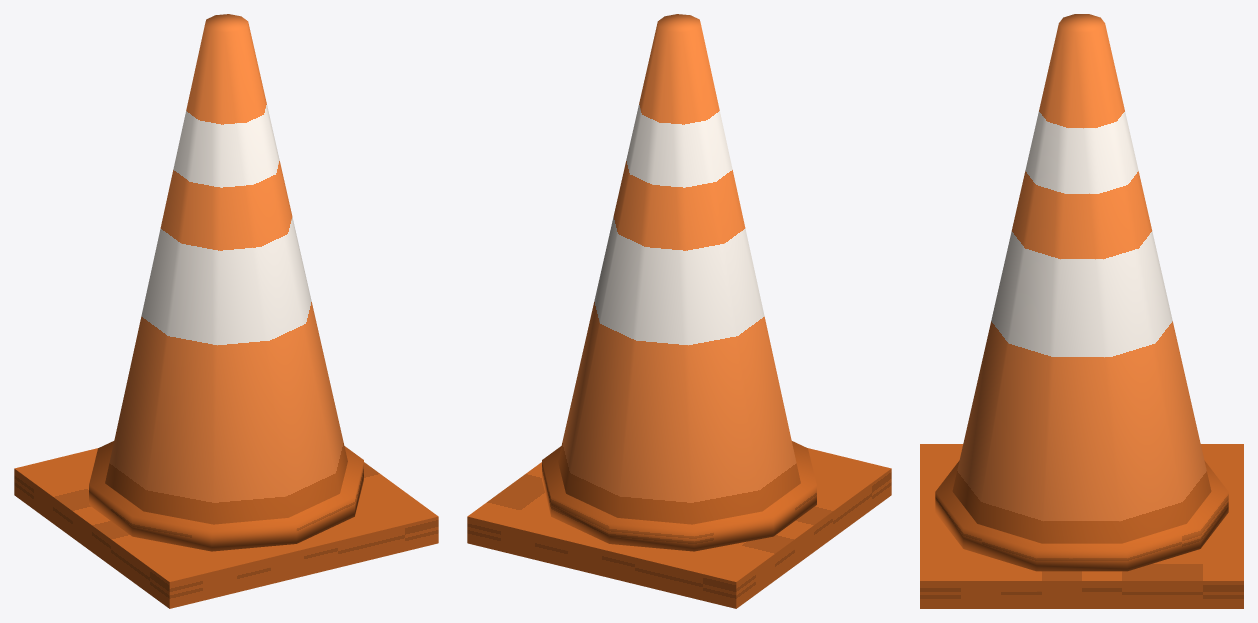
File: Traffic Cone.fbx
3 views of the same model, side by side, from view 1: azimuth 30°, elevation 25°; view 2: azimuth 150°, elevation 25°; view 3: azimuth 270°, elevation 25° (orthographic). The views are drawn at different scales.
Visible parts, largest first — view 1: Traffic Cone cone, Traffic Cone base, Traffic Cone lip; view 2: Traffic Cone cone, Traffic Cone base, Traffic Cone lip; view 3: Traffic Cone cone, Traffic Cone base, Traffic Cone lip.
Part boxes in pixels (bbox=[...]): Traffic Cone cone: bbox=[105, 14, 347, 524]; Traffic Cone base: bbox=[14, 448, 438, 608]; Traffic Cone lip: bbox=[89, 441, 363, 551]; Traffic Cone cone: bbox=[558, 14, 800, 524]; Traffic Cone base: bbox=[467, 448, 891, 608]; Traffic Cone lip: bbox=[542, 441, 816, 551]; Traffic Cone cone: bbox=[952, 14, 1211, 543]; Traffic Cone base: bbox=[920, 444, 1243, 608]; Traffic Cone lip: bbox=[935, 460, 1228, 571].
Bounding box in the file's own units: 0.42 × 0.74 × 0.42.
2 materials, 2 textured.
